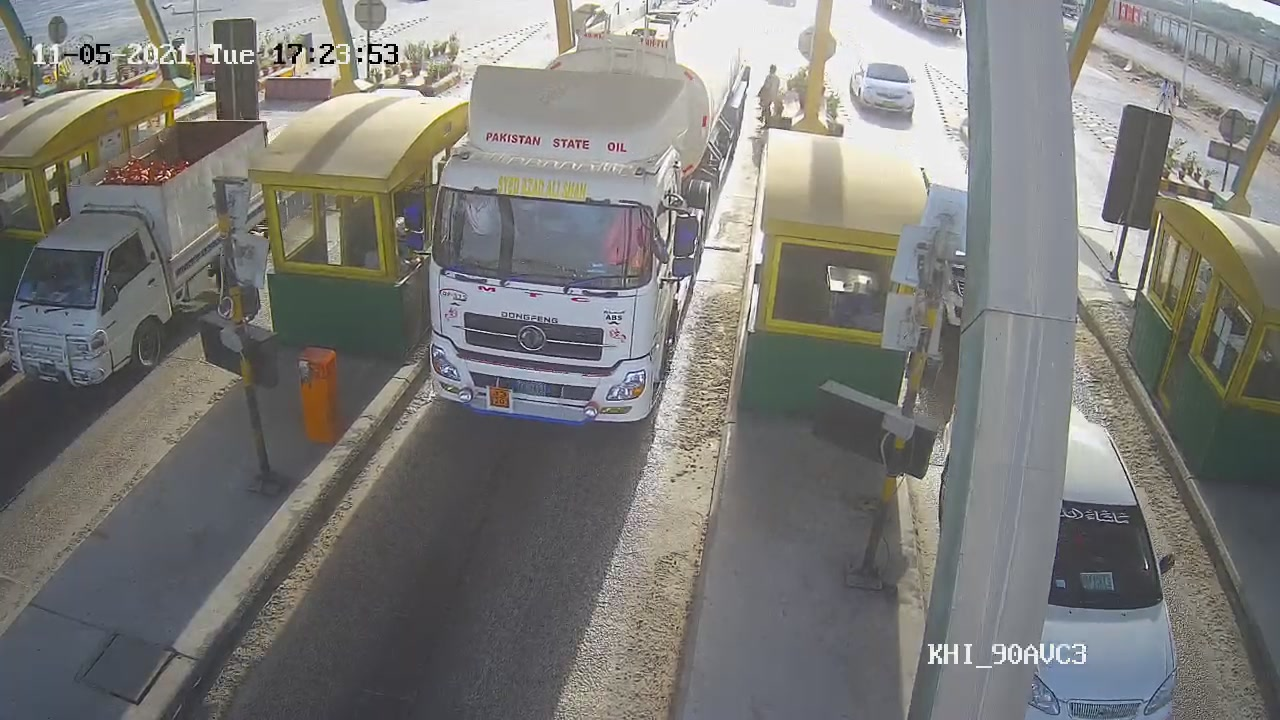F6: (421, 1, 747, 425)
